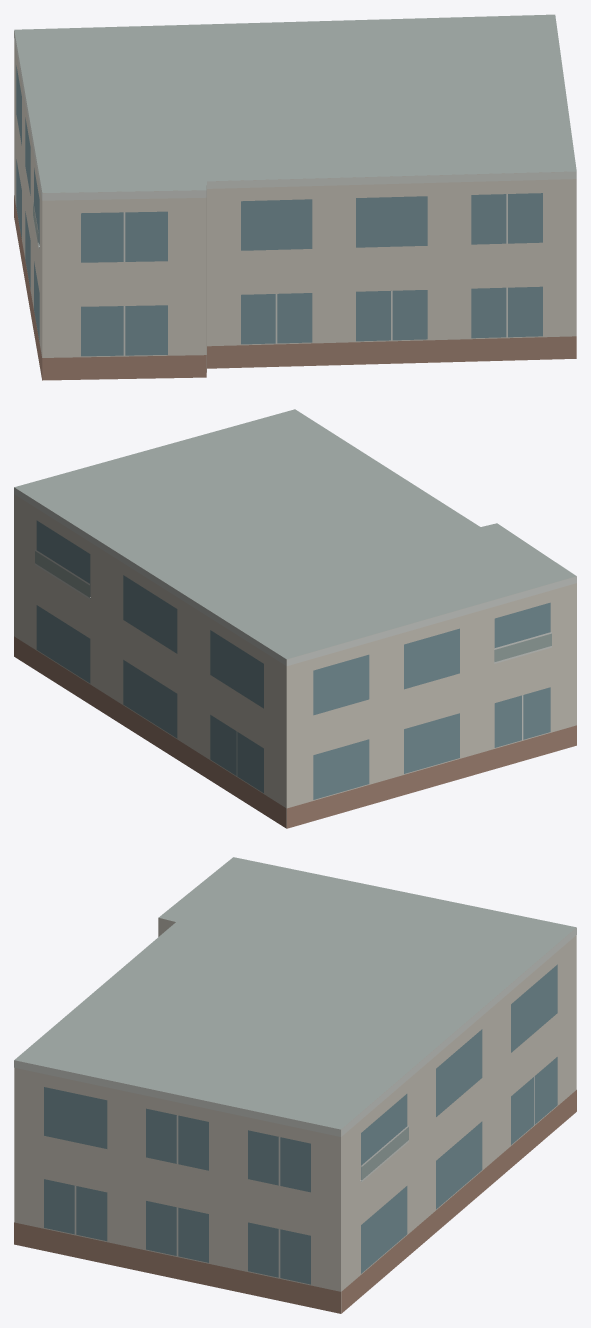
The model's file is survey-upis-32890953.glb.
3 views of the same model, one above another, from view 1: azimuth 30°, elevation 25°; view 2: azimuth 150°, elevation 25°; view 3: azimuth 270°, elevation 25° (orthographic). The views are drawn at different scales.
Visible parts, largest first — view 1: survey-upis-32890953.tmp; view 2: survey-upis-32890953.tmp; view 3: survey-upis-32890953.tmp.
Part boxes in pixels (bbox=[...]): survey-upis-32890953.tmp: bbox=[14, 14, 576, 380]; survey-upis-32890953.tmp: bbox=[14, 409, 576, 828]; survey-upis-32890953.tmp: bbox=[14, 857, 576, 1313].
Size of the model in its own units: 19.04 by 6 by 16.61.
